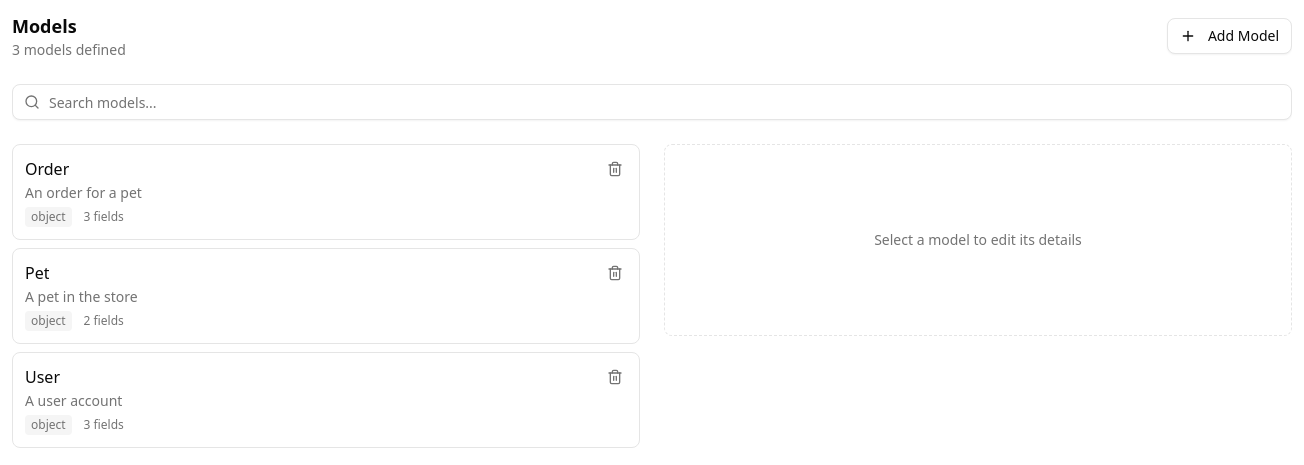
ModelsTab › Search and Filter › should filter models by description
Type "account" into the search field labelled "Search models..." at (652, 102), box [12,84,1292,120]
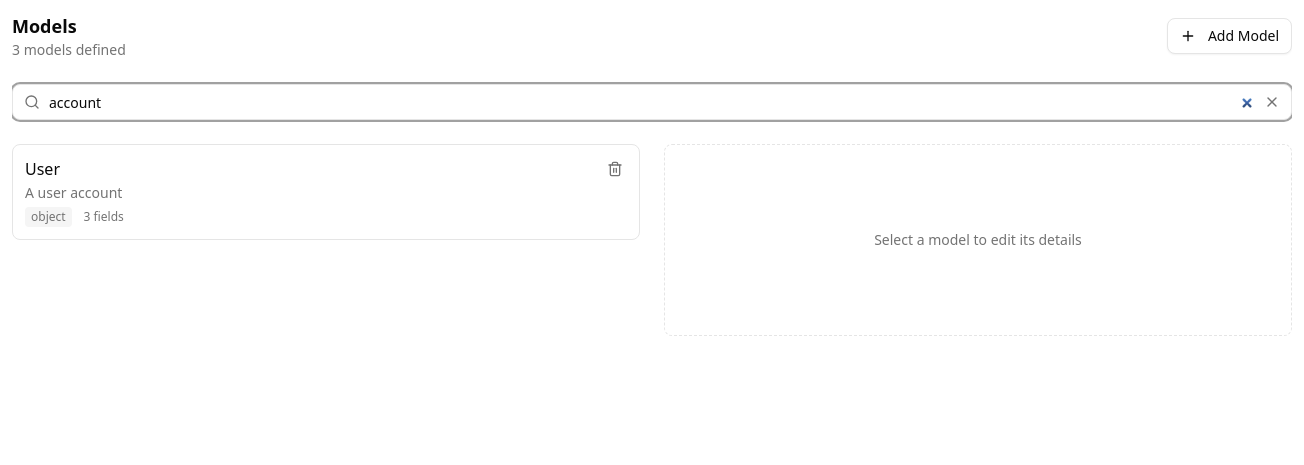
Check: the text "User" is shown, box [25,157,60,181]
Check: the button "pet" is gone
